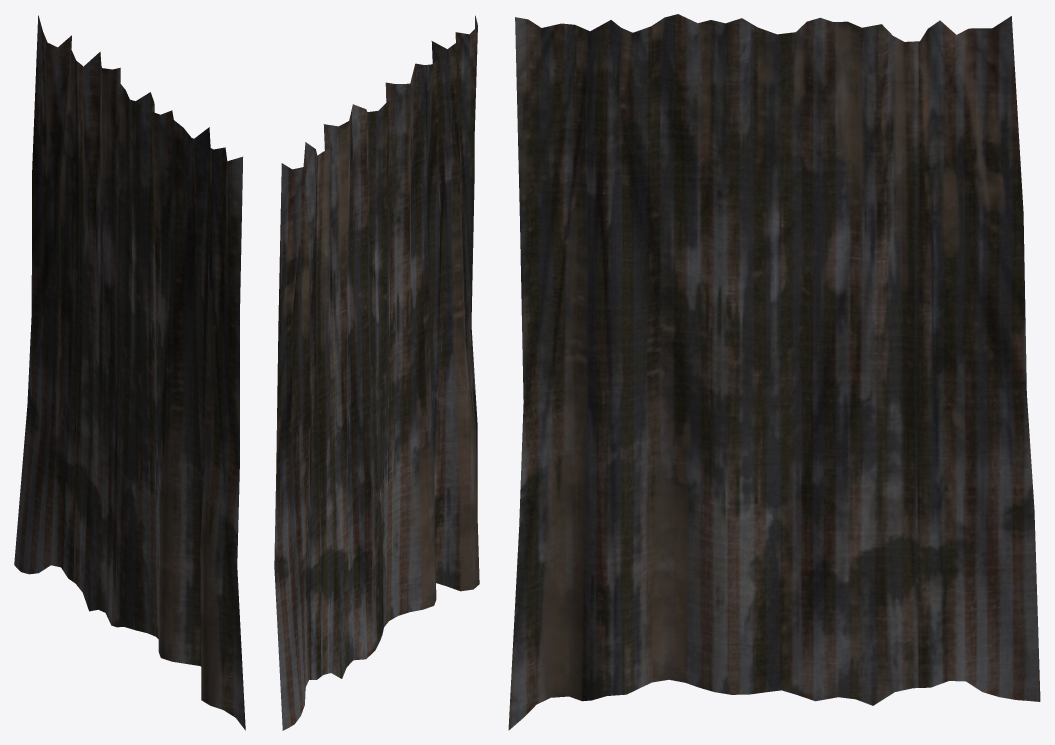
Rendered from CurtainOpen_02.FBX.
The picture shows the model from 3 angles, left to right: view 1: azimuth 30°, elevation 25°; view 2: azimuth 150°, elevation 25°; view 3: azimuth 270°, elevation 25°; orthographic projection. The views are drawn at different scales.
Parts seen in each view (by area): view 1: CurtainOpen_02; view 2: CurtainOpen_02; view 3: CurtainOpen_02.
Boxes of the visible parts, <box> form: CurtainOpen_02: <box>14,15,245,730</box>; CurtainOpen_02: <box>274,15,479,730</box>; CurtainOpen_02: <box>508,14,1040,730</box>.
Bounding box in the file's own units: 13.15 × 281 × 190.
